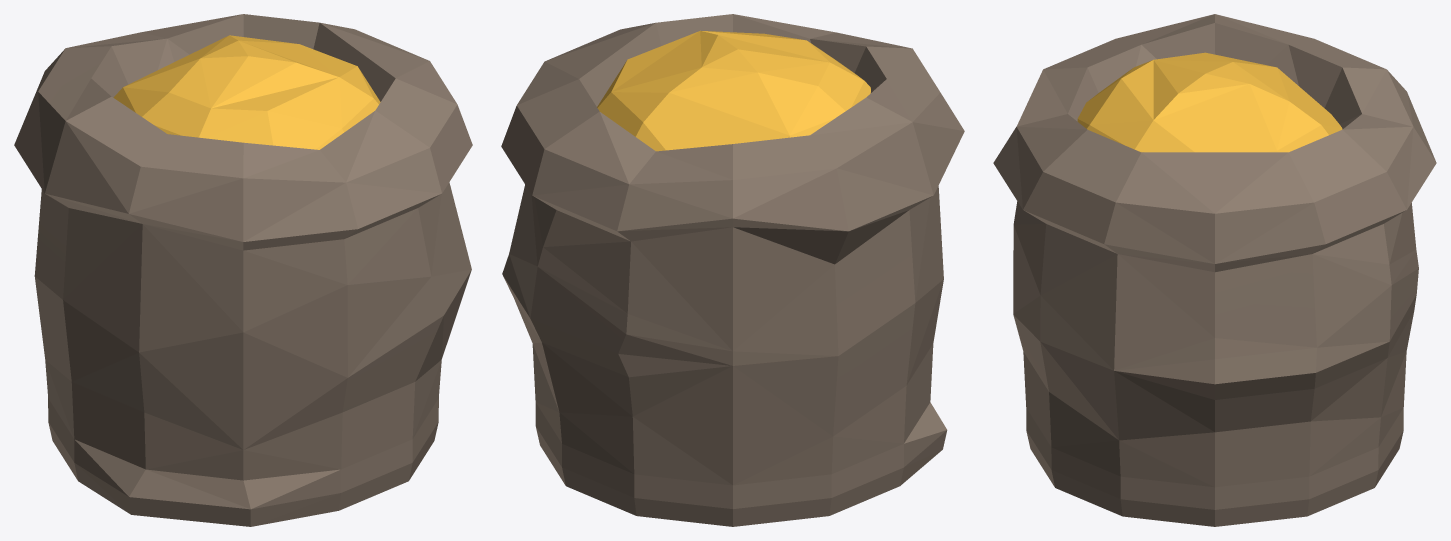
The model's file is Bag_02.glb.
3 renders of one model, left to right at view 1: azimuth 30°, elevation 25°; view 2: azimuth 150°, elevation 25°; view 3: azimuth 270°, elevation 25°, orthographic. The views are drawn at different scales.
Visible parts, largest first — view 1: bag_2; view 2: bag_2; view 3: bag_2.
Part boxes in pixels (bbox=[...]): bag_2: bbox=[14, 14, 472, 526]; bag_2: bbox=[501, 14, 964, 526]; bag_2: bbox=[993, 14, 1436, 526].
Bounding box in the file's own units: 0.9826 × 0.9136 × 0.9781.
1 material, 1 textured.
